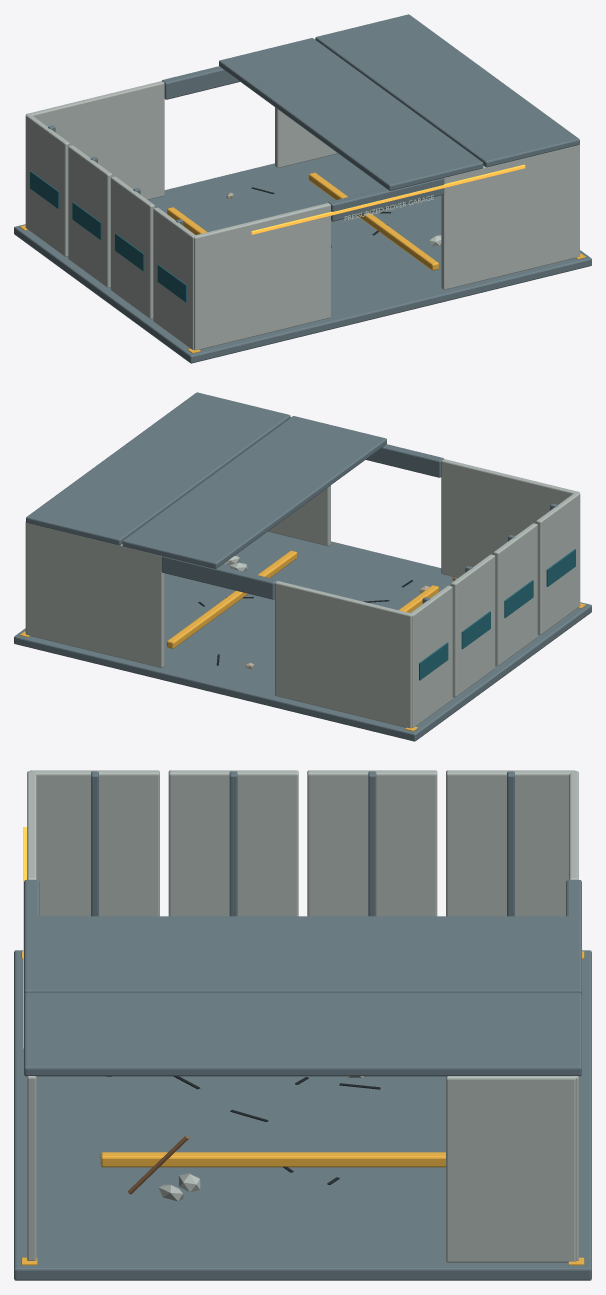
The model's file is industry_garage_d2.glb.
3 renders of one model, top to bottom at view 1: azimuth 30°, elevation 25°; view 2: azimuth 150°, elevation 25°; view 3: azimuth 270°, elevation 25°, orthographic. The views are drawn at different scales.
Parts seen in each view (by area): view 1: Foundation.026, Removable roof segment.048, Removable roof segment.049, End bulkhead.064, End bulkhead.065, End bulkhead.066, Side pressure panel.109, Side pressure panel.111, Side pressure panel.110, Side pressure panel.108, End bulkhead.067, Door header.028 (+7 smaller); view 2: Foundation.026, Removable roof segment.048, Removable roof segment.049, End bulkhead.066, End bulkhead.067, End bulkhead.064, Side pressure panel.110, Side pressure panel.108, Side pressure panel.109, Side pressure panel.111, Door header.029, End bulkhead.065 (+6 smaller); view 3: Foundation.026, Removable roof segment.049, Removable roof segment.048, Side pressure panel.112, Side pressure panel.109, Side pressure panel.110, Side pressure panel.111, Side pressure panel.108, Vehicle service rail.005, End bulkhead.065, External armor rib.109, External armor rib.110 (+4 smaller).
Boxes of the visible parts, x1,y1,x2,y2 form: Foundation.026: [14, 153, 591, 363]; Removable roof segment.048: [219, 38, 483, 190]; Removable roof segment.049: [315, 14, 579, 167]; End bulkhead.064: [194, 203, 330, 350]; End bulkhead.065: [441, 144, 579, 289]; End bulkhead.066: [26, 81, 164, 199]; Side pressure panel.109: [110, 176, 154, 319]; Side pressure panel.111: [25, 114, 69, 256]; Side pressure panel.110: [68, 145, 112, 287]; Side pressure panel.108: [153, 207, 195, 349]; End bulkhead.067: [275, 107, 337, 168]; Door header.028: [328, 178, 444, 221]; Foundation.026: [14, 531, 591, 741]; Removable roof segment.048: [122, 416, 386, 568]; Removable roof segment.049: [26, 392, 290, 545]; End bulkhead.066: [275, 581, 411, 728]; End bulkhead.067: [26, 522, 164, 667]; End bulkhead.064: [441, 459, 579, 577]; Side pressure panel.110: [451, 554, 495, 697]; Side pressure panel.108: [536, 492, 580, 634]; Side pressure panel.109: [493, 523, 537, 665]; Side pressure panel.111: [410, 585, 452, 727]; Door header.029: [161, 556, 277, 599]; End bulkhead.065: [268, 485, 330, 546]; Foundation.026: [14, 950, 591, 1280]; Removable roof segment.049: [24, 993, 581, 1076]; Removable roof segment.048: [24, 916, 581, 994]; Side pressure panel.112: [446, 1076, 575, 1262]; Side pressure panel.109: [168, 770, 298, 916]; Side pressure panel.110: [307, 770, 437, 916]; Side pressure panel.111: [446, 770, 575, 916]; Side pressure panel.108: [30, 770, 159, 916]; Vehicle service rail.005: [100, 1152, 445, 1167]; End bulkhead.065: [27, 1076, 36, 1260]; External armor rib.109: [229, 771, 237, 916]; External armor rib.110: [368, 771, 376, 916].
Bounding box in the file's own units: 17 × 5.14 × 13.
